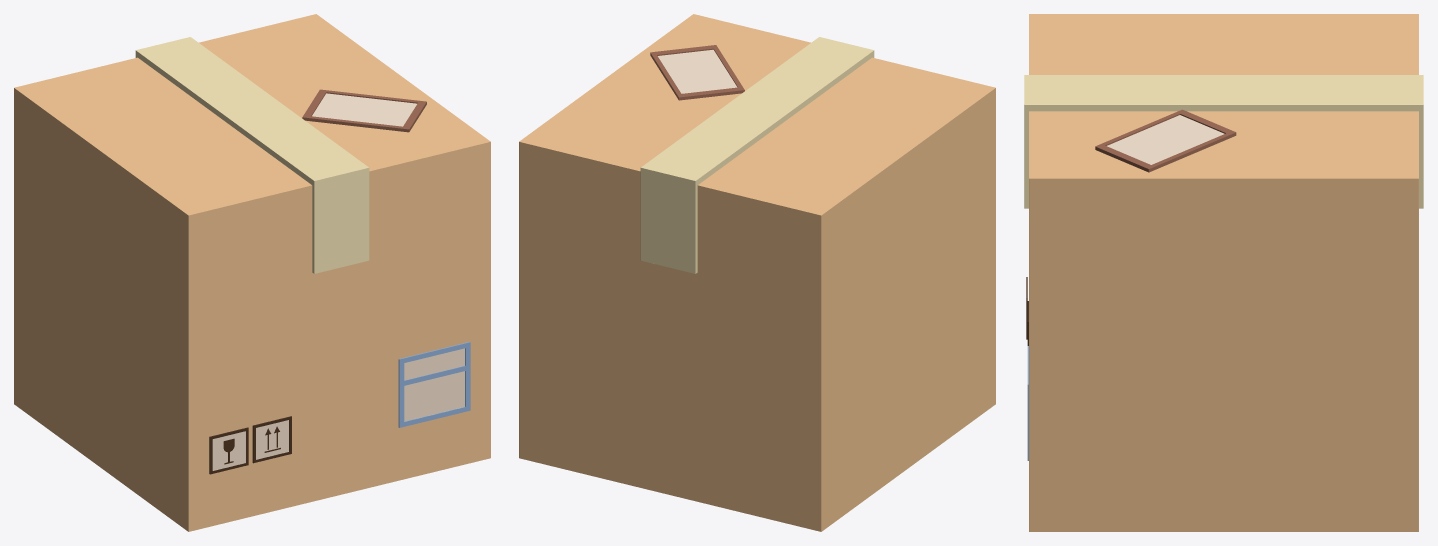
3 renders of one model, left to right at view 1: azimuth 30°, elevation 25°; view 2: azimuth 150°, elevation 25°; view 3: azimuth 270°, elevation 25°, orthographic. The views are drawn at different scales.
Parts seen in each view (by area): view 1: Box4; view 2: Box4; view 3: Box4.
Boxes of the visible parts, x1,y1,x2,y2 form: Box4: [14, 14, 490, 531]; Box4: [519, 14, 995, 531]; Box4: [1024, 14, 1423, 531].
Bounding box in the file's own units: 96.85 × 98.62 × 99.15.
